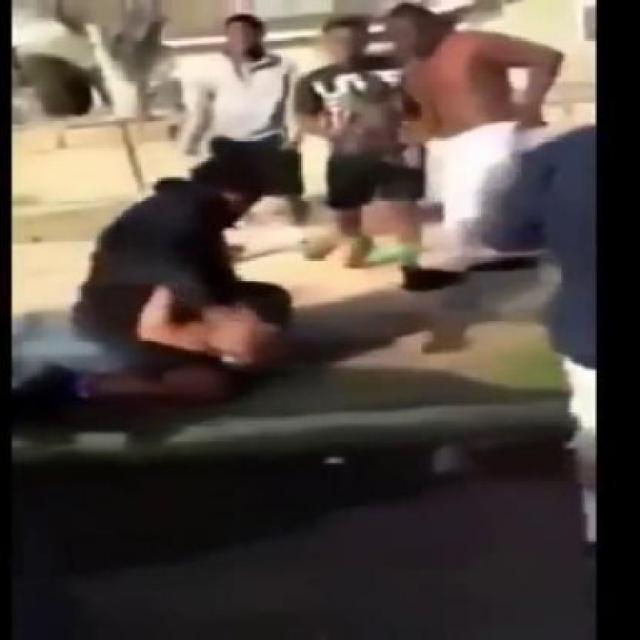fight: (26, 149, 305, 408)
